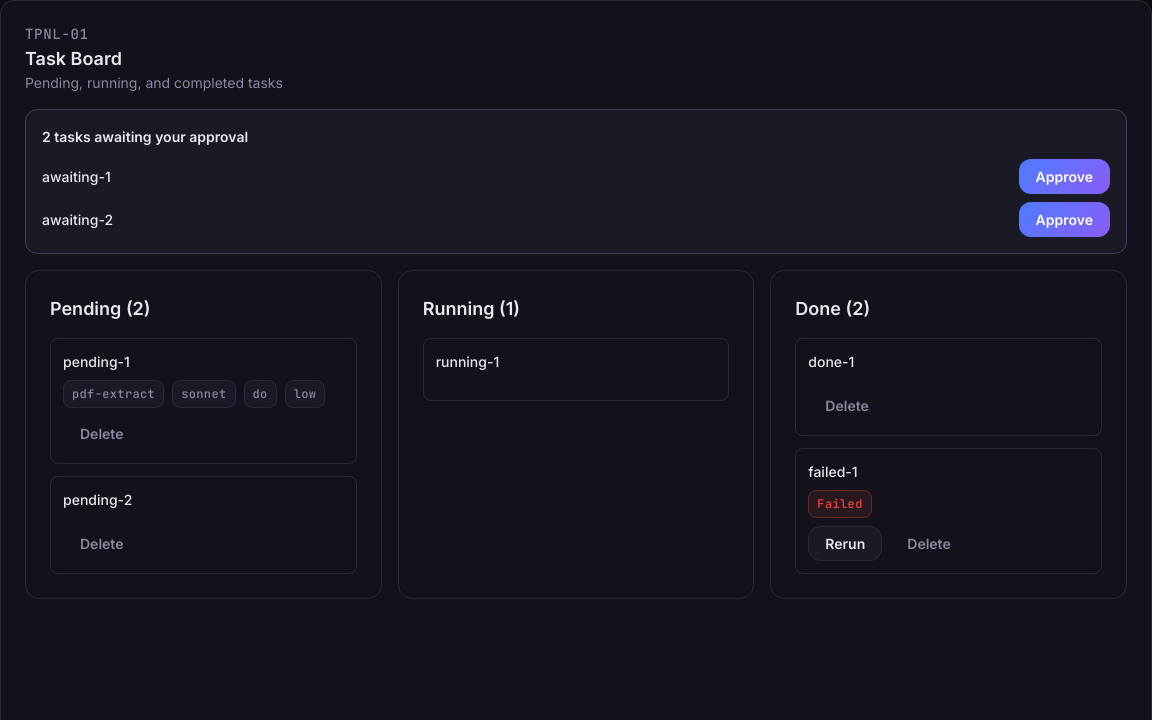
it: TaskBoard › clicking Delete opens an AlertDialog (role=alertdialog appears in document.body)
The width and height of the screenshot is (1152, 720).
expect the text "pending-1" is shown: met, box [63, 353, 130, 370]
Note: Click the first Delete button
Click the button "Delete" below "pending-1" at (102, 433), box [63, 416, 140, 451]
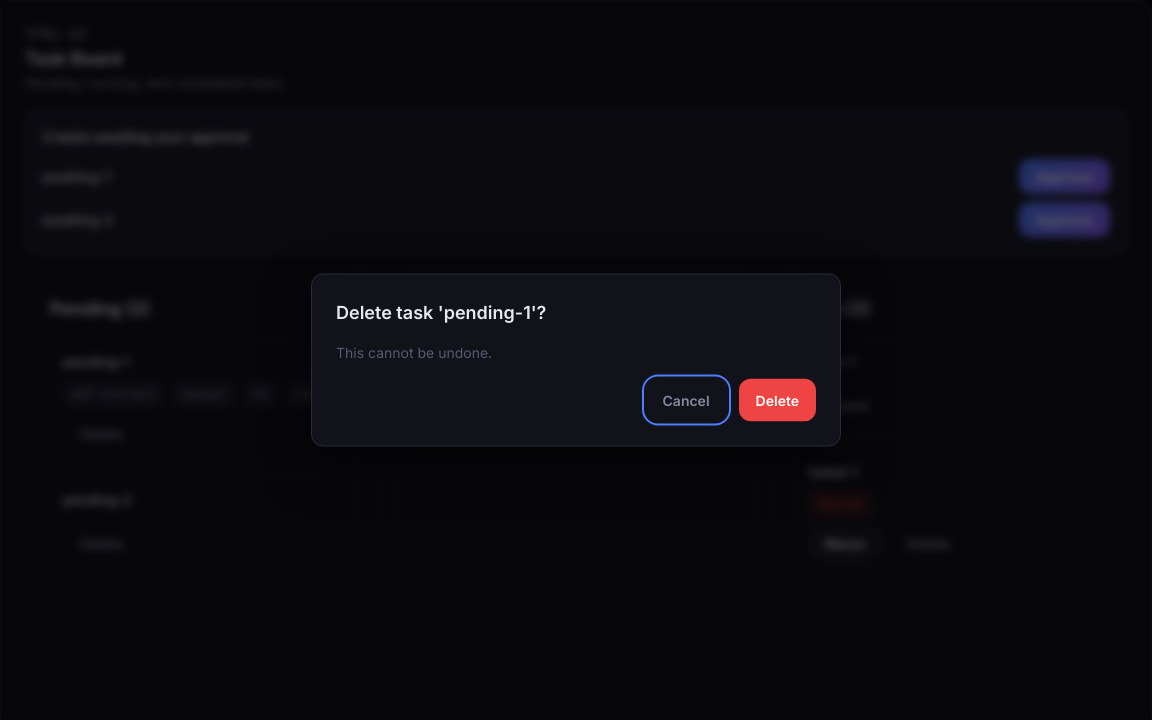
expect the dialog is shown: met, box [311, 274, 841, 446]
expect the dialog shows "Delete task": met, box [336, 302, 546, 322]
